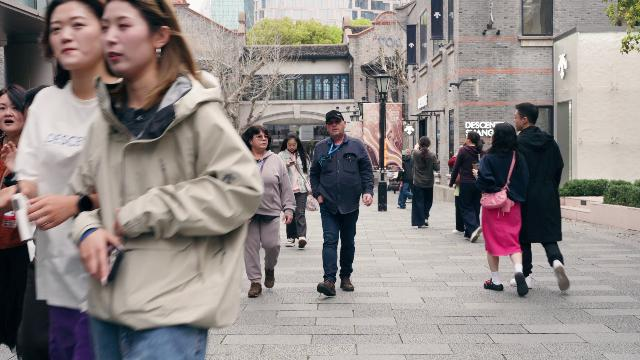person: (23, 0, 265, 360), (11, 0, 122, 360), (308, 110, 374, 296), (512, 102, 570, 292), (239, 125, 296, 299), (474, 122, 530, 297), (0, 85, 35, 360), (448, 131, 487, 244), (278, 131, 312, 248), (410, 135, 441, 229)
